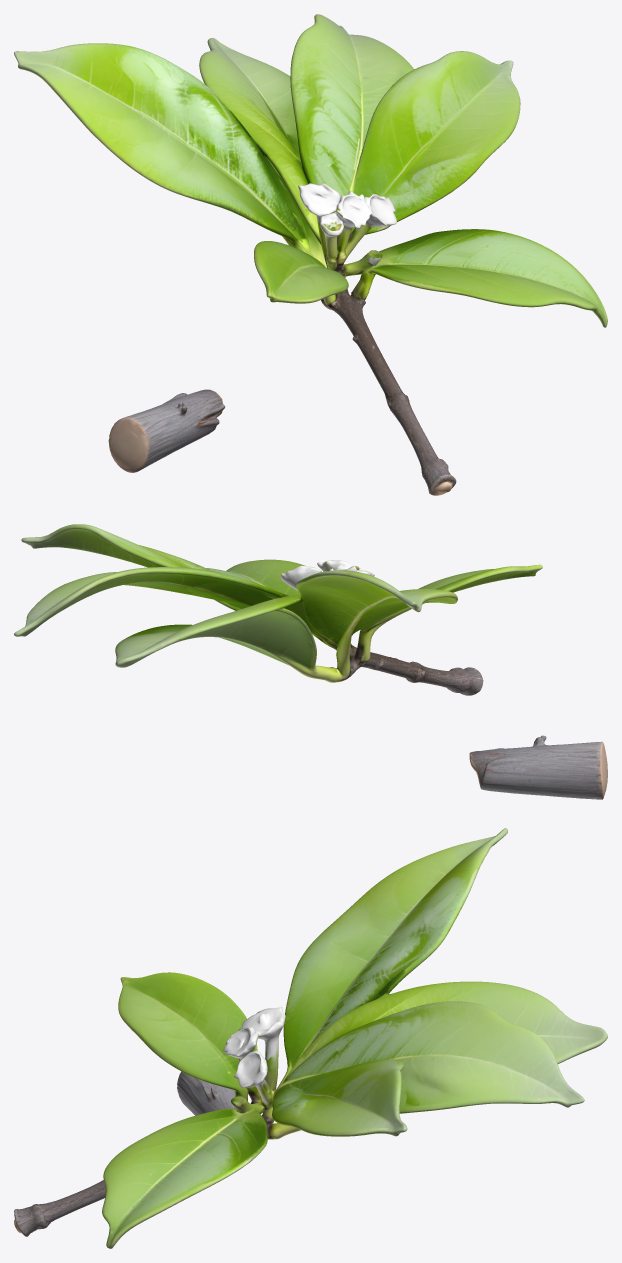
File: zhangnao.glb
3 views of the same model, one above another, from view 1: azimuth 30°, elevation 25°; view 2: azimuth 150°, elevation 25°; view 3: azimuth 270°, elevation 25° (orthographic).
Parts seen in each view (by area): view 1: node_0; view 2: node_0; view 3: node_0.
Boxes of the visible parts, x1=… form: node_0: x1=14, y1=14, x2=607, y2=495; node_0: x1=14, y1=524, x2=607, y2=799; node_0: x1=14, y1=828, x2=607, y2=1248.
Bounding box in the file's own units: 0.9887 × 0.6036 × 1.02.
Materials: 1 (1 with a texture image).
